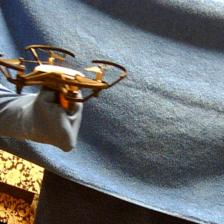drone: (0, 41, 130, 112)
